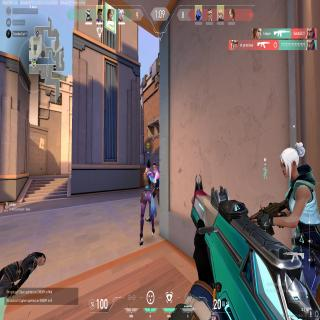ENEMY-BODY: (152, 162, 160, 206)
ENEMY-HEAD: (153, 162, 156, 171)
